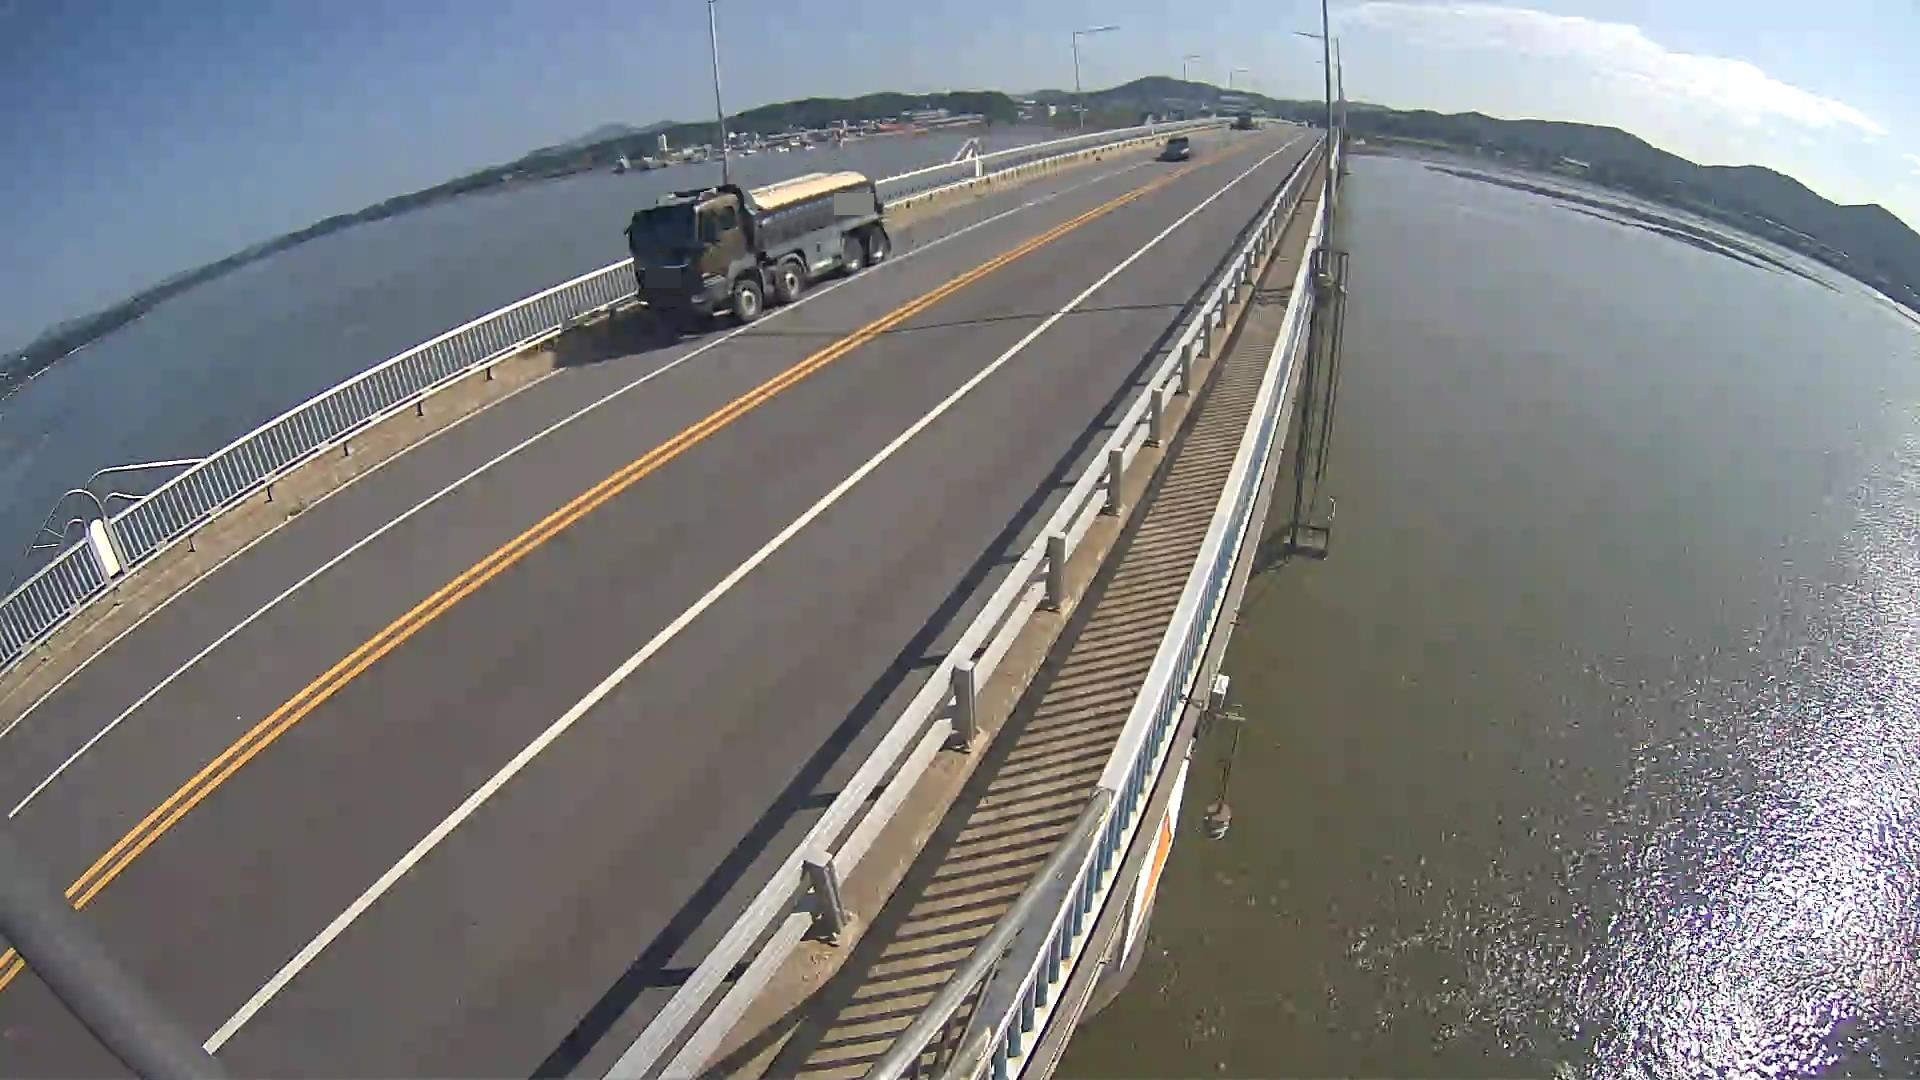정상차량: (624, 171, 892, 322)
